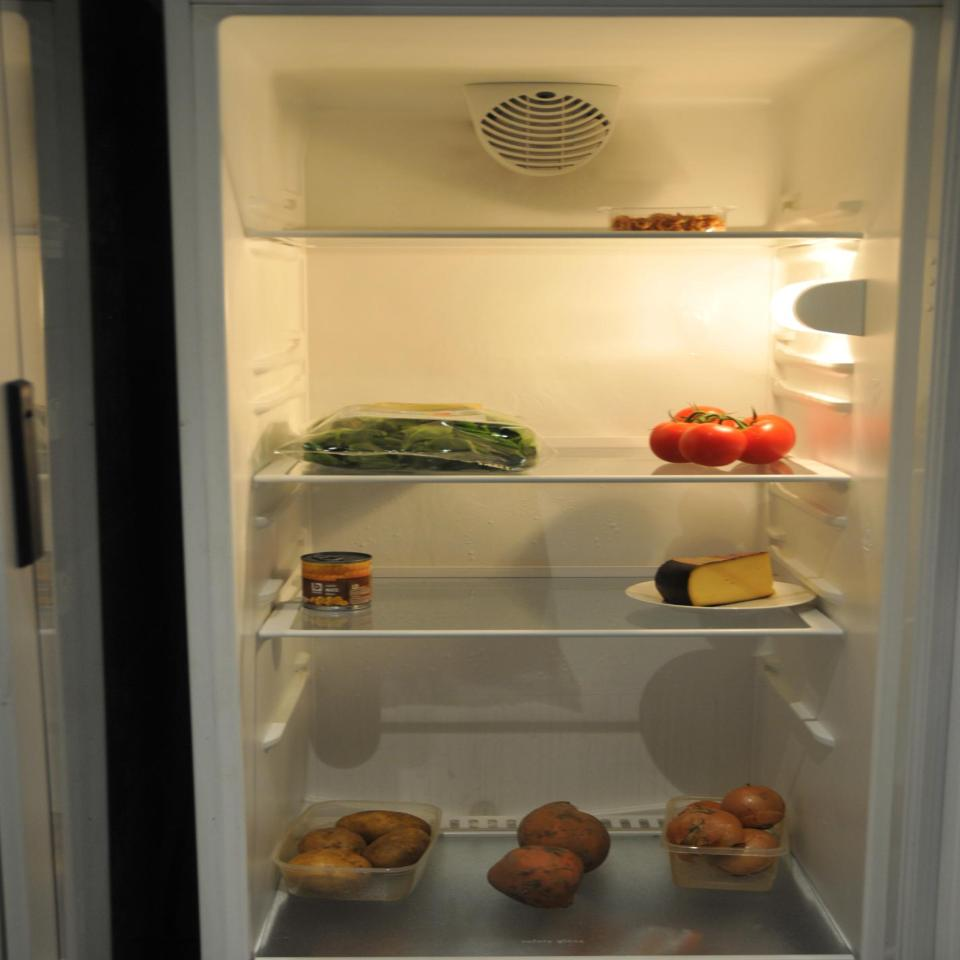Queso: (653, 541, 782, 610)
Tomate: (646, 400, 801, 469)
